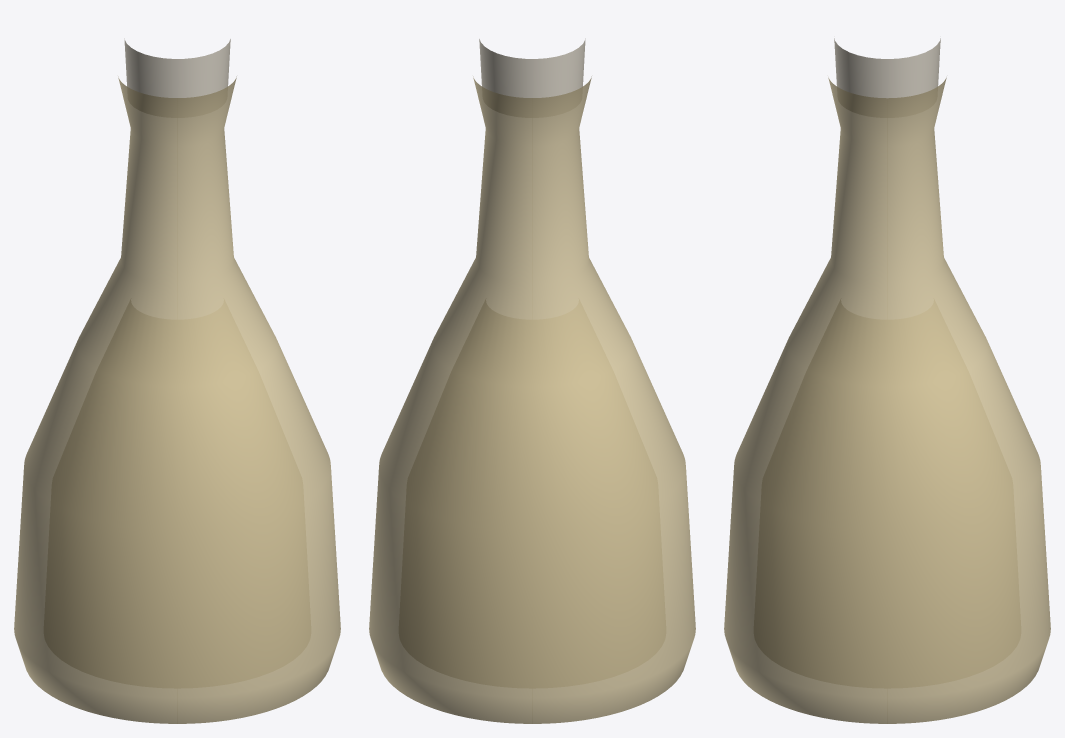
Rendered from remy-martin-louis-xiii.glb.
The picture shows the model from 3 angles, left to right: view 1: azimuth 30°, elevation 25°; view 2: azimuth 150°, elevation 25°; view 3: azimuth 270°, elevation 25°; orthographic projection.
Parts seen in each view (by area): view 1: body, cap; view 2: body, cap; view 3: body, cap.
Boxes of the visible parts, x1,y1,x2,y2 form: body: (14, 76, 340, 723); cap: (124, 38, 230, 97); body: (369, 76, 695, 723); cap: (479, 38, 585, 97); body: (724, 77, 1050, 723); cap: (834, 38, 940, 98).
Size of the model in its own units: 0.49 by 1.03 by 0.49.
